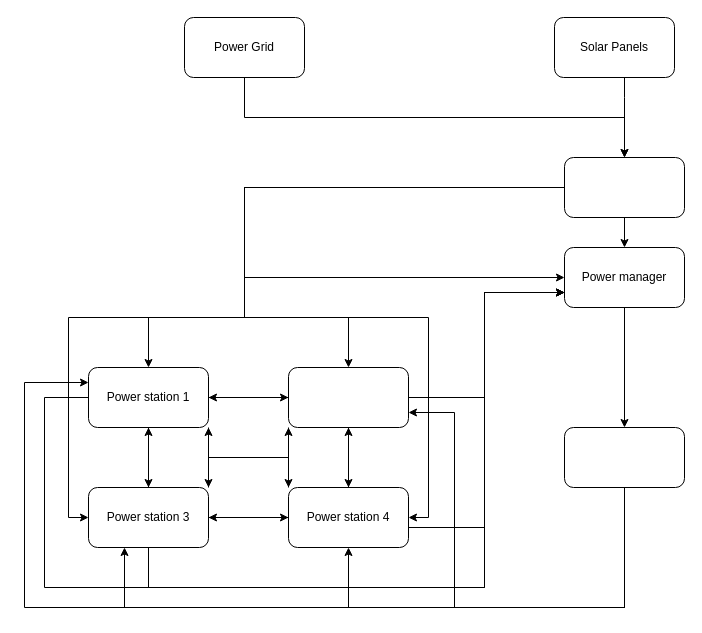
The diagram is 702 pixels wide and 633 high, and some of its shapes have lost their labels. Each missing label, with the centre of its shape:
Building: (x=624, y=187)
GUI: (x=624, y=457)
Power station 2: (x=348, y=397)
